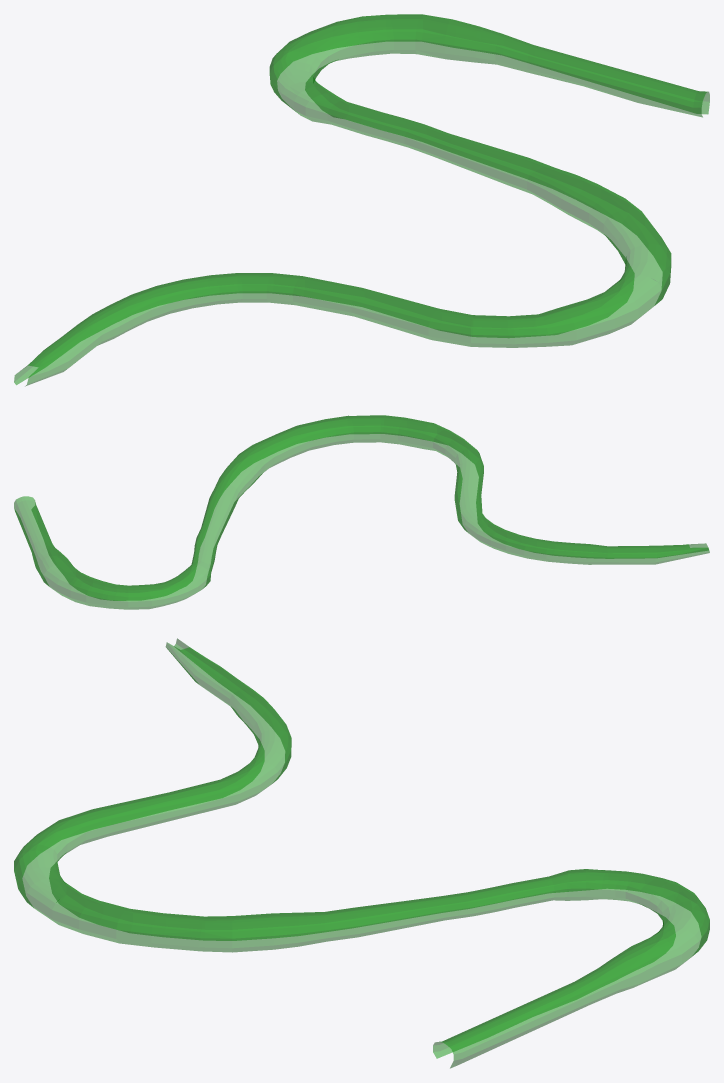
The model's file is D_def.obj.
3 renders of one model, top to bottom at view 1: azimuth 30°, elevation 25°; view 2: azimuth 150°, elevation 25°; view 3: azimuth 270°, elevation 25°, orthographic. The views are drawn at different scales.
Size of the model in its own units: 635 by 40.5 by 485.
